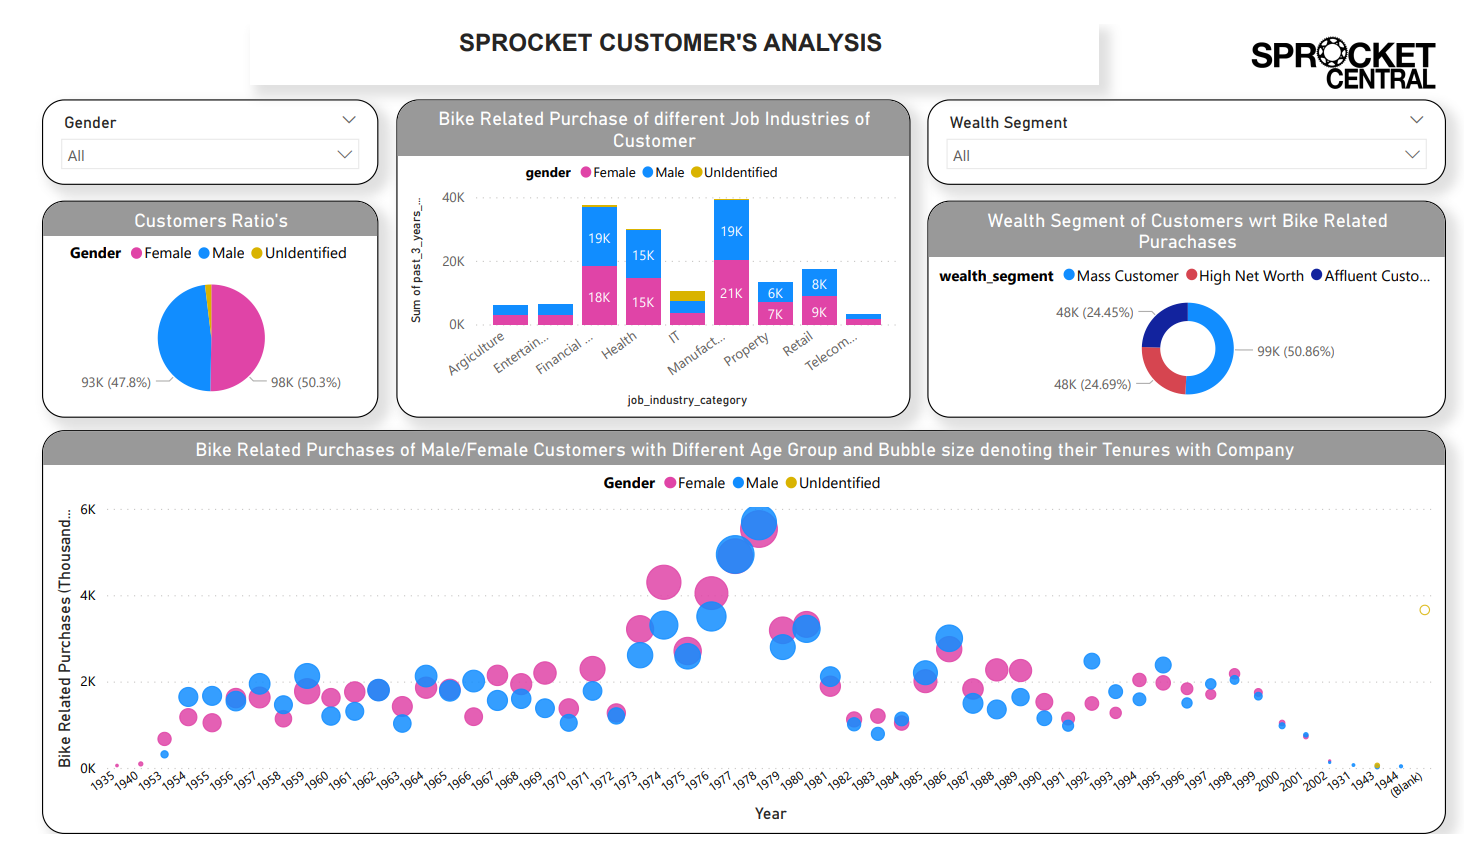

What the dashboard file says about the page in this screenshot:
{"tool":"powerbi","page":{"name":"Sprocket Customer Analysis","canvas":[1280,720],"ordinal":0},"visuals":[{"type":"pieChart","title":"Customers Ratio''s","fields":{"Category":["customer_demographic.gender","customer_demographic.owns_car"],"Y":["Sum(customer_demographic.past_3_years_bike_related_purchases)"]},"box":[16.3,156.9,298.8,193.3],"z":0},{"type":"scatterChart","title":"Bike Related Purchases of Male/Female Customers with Different Age Group and Bubble size denoting their Tenures with Company","fields":{"X":["customer_demographic.DOB.Variation.Date Hierarchy.Year","customer_demographic.DOB.Variation.Date Hierarchy.Quarter","customer_demographic.DOB.Variation.Date Hierarchy.Month","customer_demographic.DOB.Variation.Date Hierarchy.Day"],"Y":["Sum(customer_demographic.past_3_years_bike_related_purchases)"],"Series":["customer_demographic.gender"],"Size":["Sum(customer_demographic.tenure)"]},"box":[16.5,360.5,1247.7,359],"z":1000},{"type":"slicer","fields":{"Values":["customer_demographic.gender"]},"box":[16.3,66.5,298.8,76.6],"z":2000},{"type":"columnChart","title":"Bike Related Purchase of different Job Industries of Customer","fields":{"Category":["customer_demographic.job_industry_category","customer_demographic.job_title"],"Y":["Sum(customer_demographic.past_3_years_bike_related_purchases)"],"Series":["customer_demographic.gender"]},"box":[331.4,66.5,457,283.7],"z":3000},{"type":"donutChart","title":"Wealth Segment of Customers wrt Bike Related Purachases","fields":{"Category":["customer_demographic.wealth_segment"],"Y":["Sum(customer_demographic.past_3_years_bike_related_purchases)"]},"box":[803.5,156.9,460.7,193.3],"z":4000},{"type":"slicer","fields":{"Values":["customer_demographic.wealth_segment"]},"box":[803.5,66.5,460.7,76.6],"z":5000},{"type":"image","box":[1085.9,0,178.3,79.1],"z":6000},{"type":"textbox","box":[200.9,0,754.5,54],"z":7000}]}

Visuals, with their boxes in screenshot pixels (x1, y1, x2, y2), scaled from the page's 1280x720 canvas onto the 1475x846 screenshot:
"Customers Ratio''s" pieChart: select_region(19, 184, 363, 411)
"Bike Related Purchases of Male/Female Customers with Different Age Group and Bubble size denoting their Tenures with Company" scatterChart: select_region(19, 424, 1457, 845)
slicer - customer_demographic.gender: select_region(19, 78, 363, 168)
"Bike Related Purchase of different Job Industries of Customer" columnChart: select_region(382, 78, 909, 411)
"Wealth Segment of Customers wrt Bike Related Purachases" donutChart: select_region(926, 184, 1457, 411)
slicer - customer_demographic.wealth_segment: select_region(926, 78, 1457, 168)
image: select_region(1251, 0, 1457, 93)
textbox: select_region(232, 0, 1101, 63)
